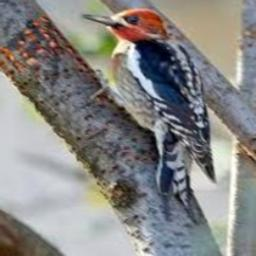Woodpecker: (80, 8, 216, 223)
